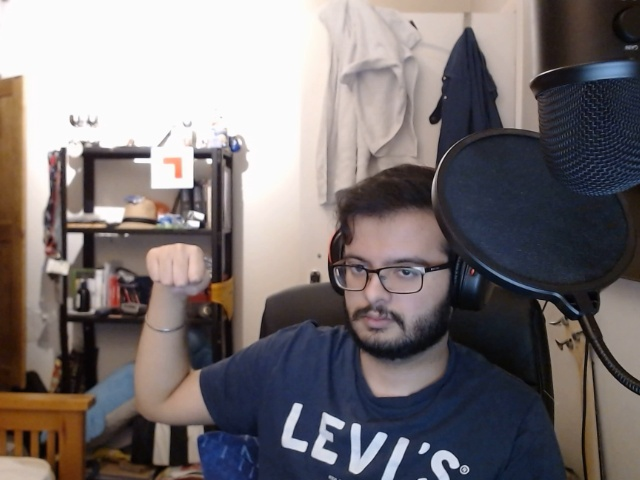Yes: (145, 235, 220, 294)
